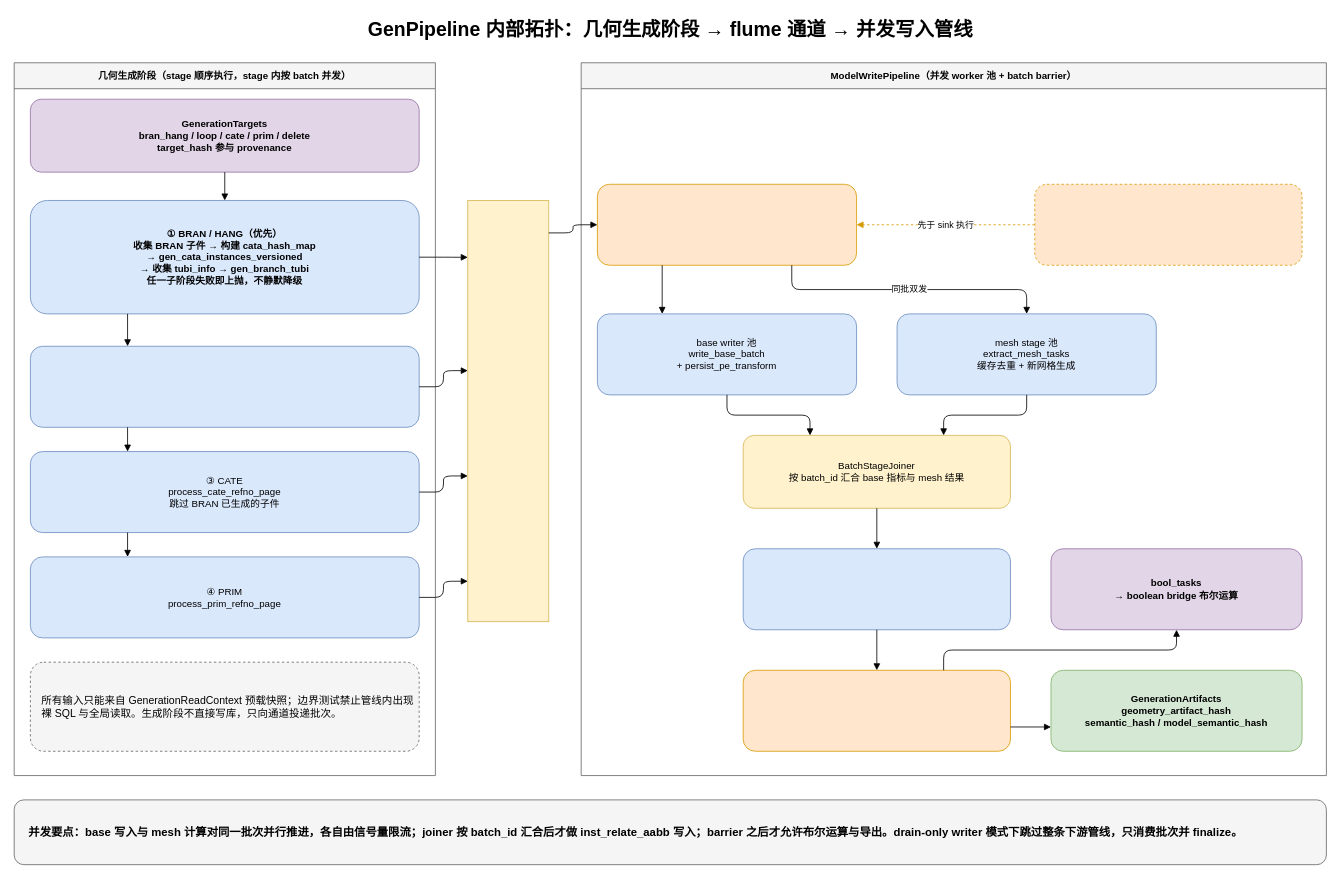
The diagram is 1341 pixels wide and 879 high, and some of its shapes have lost their labels. The centre of each missing label's shape, as x and y in pixels:
batch sink 编号分批 · 记录 touched refno 写入 GenerationArtifacts: pixel 727 224
finish() barrier 等齐全部 batch → 最终 AABB sweep → 缺失 NEG 关系补偿: pixel 876 710
flume::bounded channel_capacity ShapeInstancesData 批次: pixel 508 411
inst_aabb writer 池 persist_mesh_results + persist_inst_relate_aabb: pixel 876 589
pipeline 启动前（仅增量） pre_cleanup_for_regen_versioned 按旧模型水位切面清理目标及后代: pixel 1168 224
② LOOP process_loop_refno_page 产出 loop_sjus_map 供 CATE 复用: pixel 224 386
